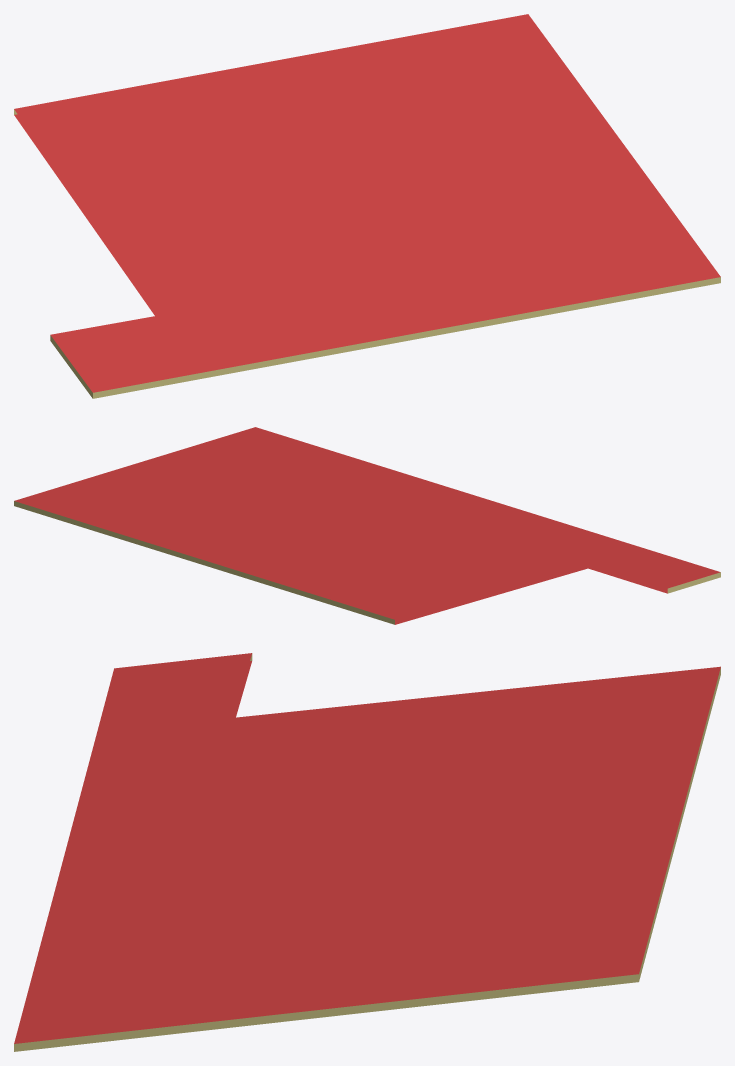
3 views of the same model, one above another, from view 1: azimuth 30°, elevation 25°; view 2: azimuth 150°, elevation 25°; view 3: azimuth 270°, elevation 25° (orthographic). The views are drawn at different scales.
Size of the model in its own units: 10.95 by 8.07 by 1.36.
